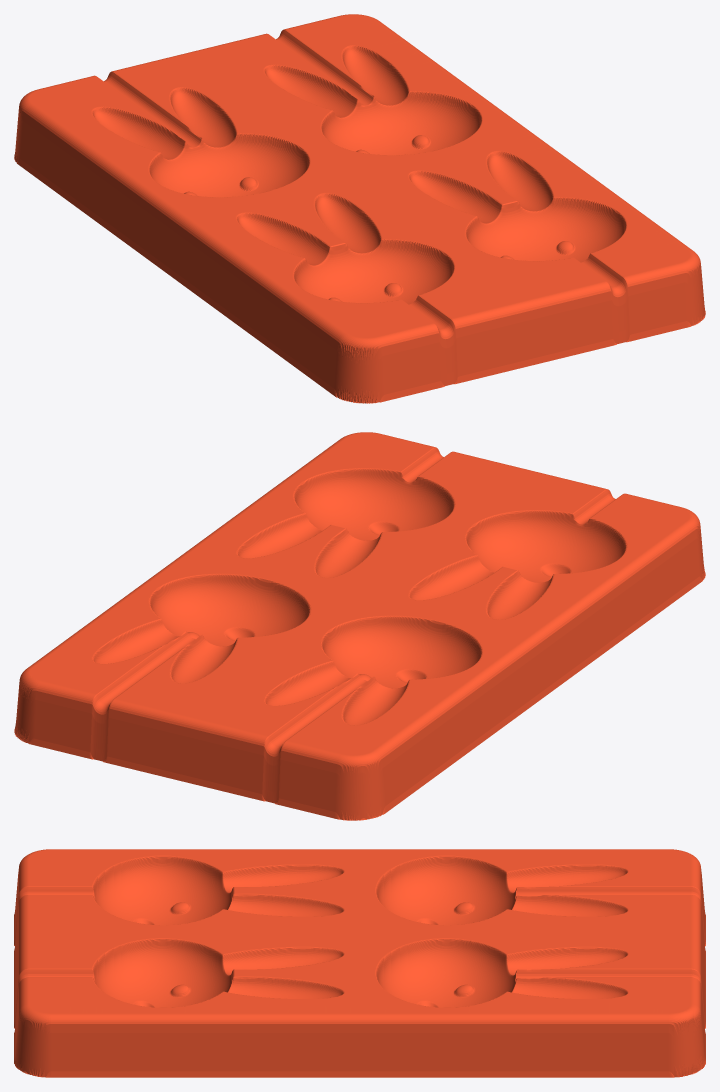
Rendered from mold.glb.
The picture shows the model from 3 angles, top to bottom: view 1: azimuth 30°, elevation 25°; view 2: azimuth 150°, elevation 25°; view 3: azimuth 270°, elevation 25°; orthographic projection.
Visible parts, largest first — view 1: geometry_0; view 2: geometry_0; view 3: geometry_0.
Boxes of the visible parts, <box> form: geometry_0: <box>14,14,705,403</box>; geometry_0: <box>14,432,705,820</box>; geometry_0: <box>14,849,705,1077</box>.
Size of the model in its own units: 0.101 by 0.0155 by 0.1679.
